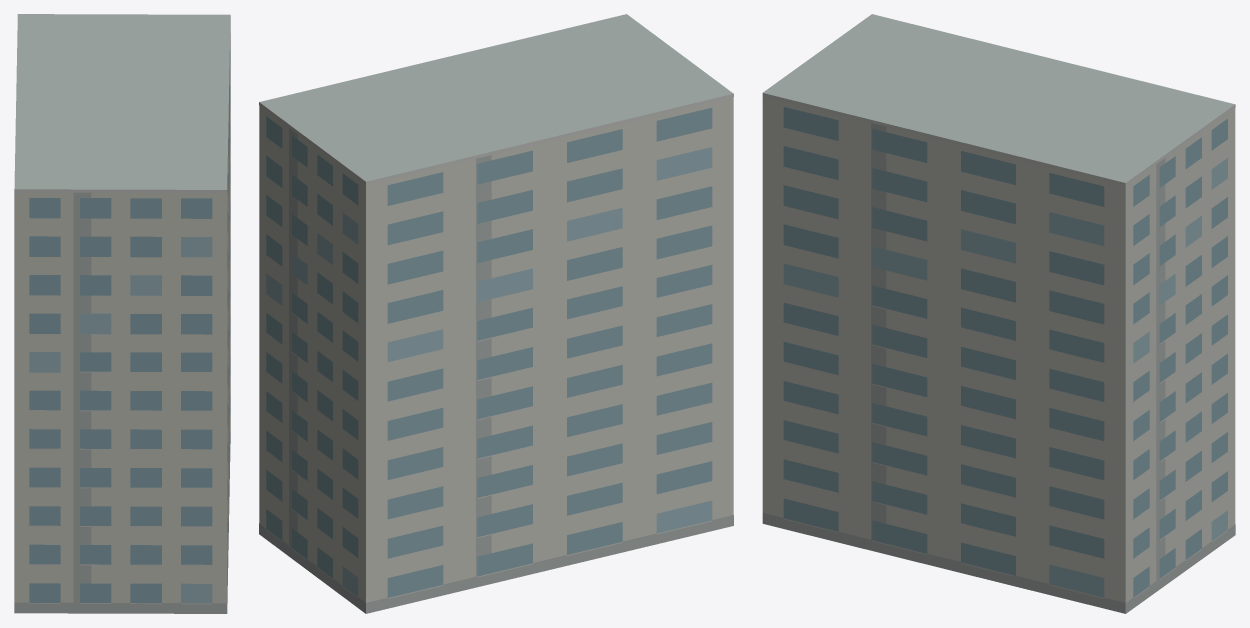
Rendered from residential-da674d2b-d008-4695-91c6-29d6f329b989.glb.
3 views of the same model, side by side, from view 1: azimuth 30°, elevation 25°; view 2: azimuth 150°, elevation 25°; view 3: azimuth 270°, elevation 25° (orthographic).
Parts seen in each view (by area): view 1: residential-da674d2b-d008-4695-91c6-29d6f329b989.tmp; view 2: residential-da674d2b-d008-4695-91c6-29d6f329b989.tmp; view 3: residential-da674d2b-d008-4695-91c6-29d6f329b989.tmp.
Boxes of the visible parts, x1,y1,x2,y2 form: residential-da674d2b-d008-4695-91c6-29d6f329b989.tmp: (14, 14, 230, 613); residential-da674d2b-d008-4695-91c6-29d6f329b989.tmp: (259, 14, 733, 613); residential-da674d2b-d008-4695-91c6-29d6f329b989.tmp: (762, 14, 1235, 613).
Size of the model in its own units: 26.93 by 32 by 31.84.
